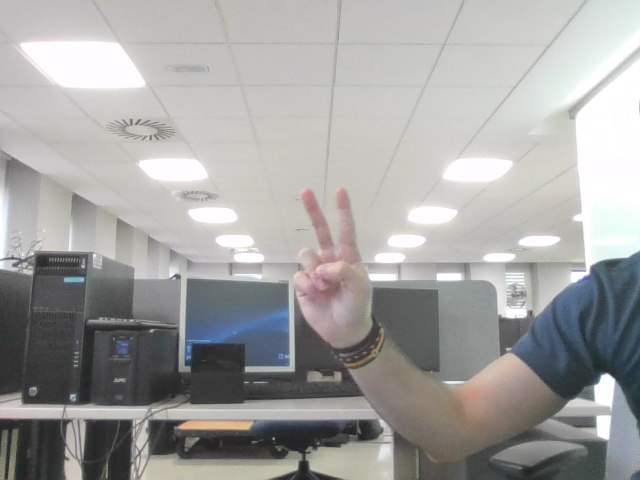2Dedos: (301, 199, 357, 306)
